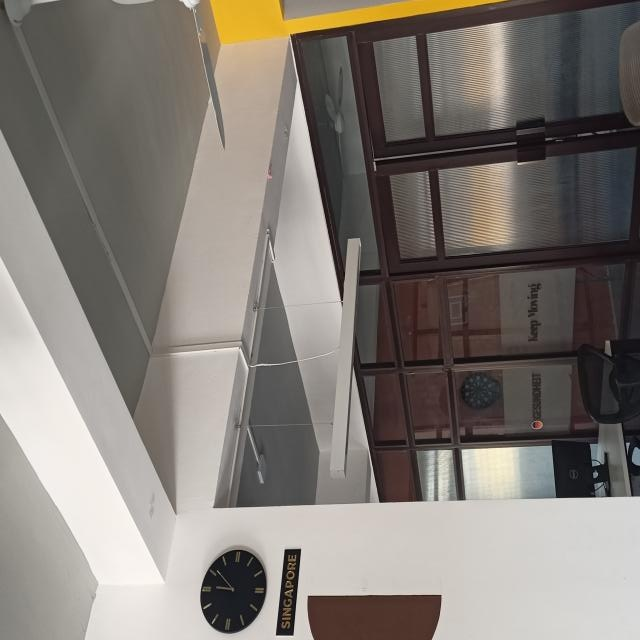fluorescent tube: (326, 235, 366, 486)
